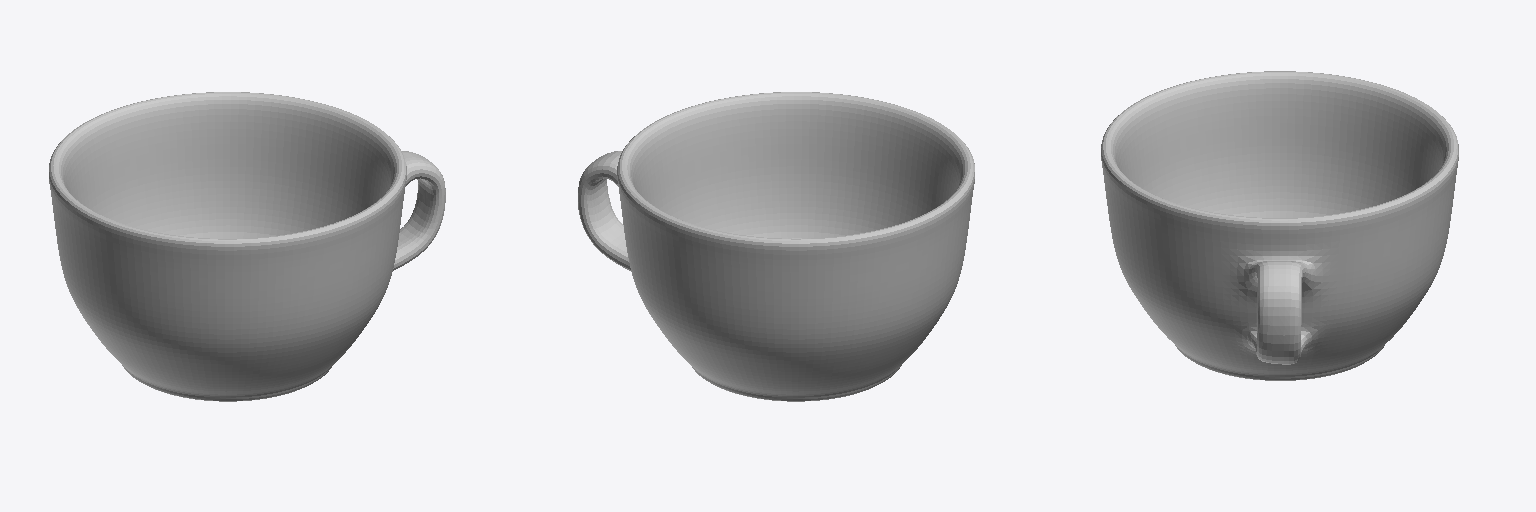
File: cup.obj
3 renders of one model, left to right at view 1: azimuth 30°, elevation 25°; view 2: azimuth 150°, elevation 25°; view 3: azimuth 270°, elevation 25°, orthographic.
Visible parts, largest first — view 1: Circle; view 2: Circle; view 3: Circle.
Boxes of the visible parts, x1,y1,x2,y2 form: Circle: [49, 92, 445, 401]; Circle: [578, 92, 974, 401]; Circle: [1101, 71, 1458, 380].
Bounding box in the file's own units: 3.54 × 1.79 × 3.